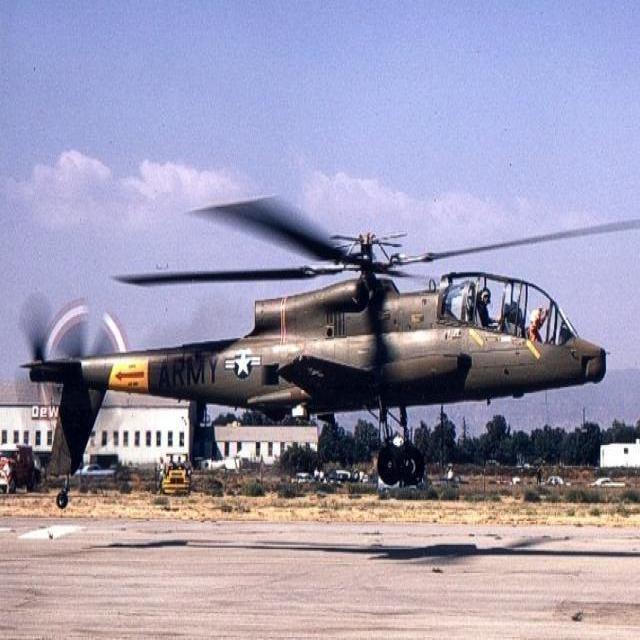MIL_HELO: (13, 186, 640, 493)
